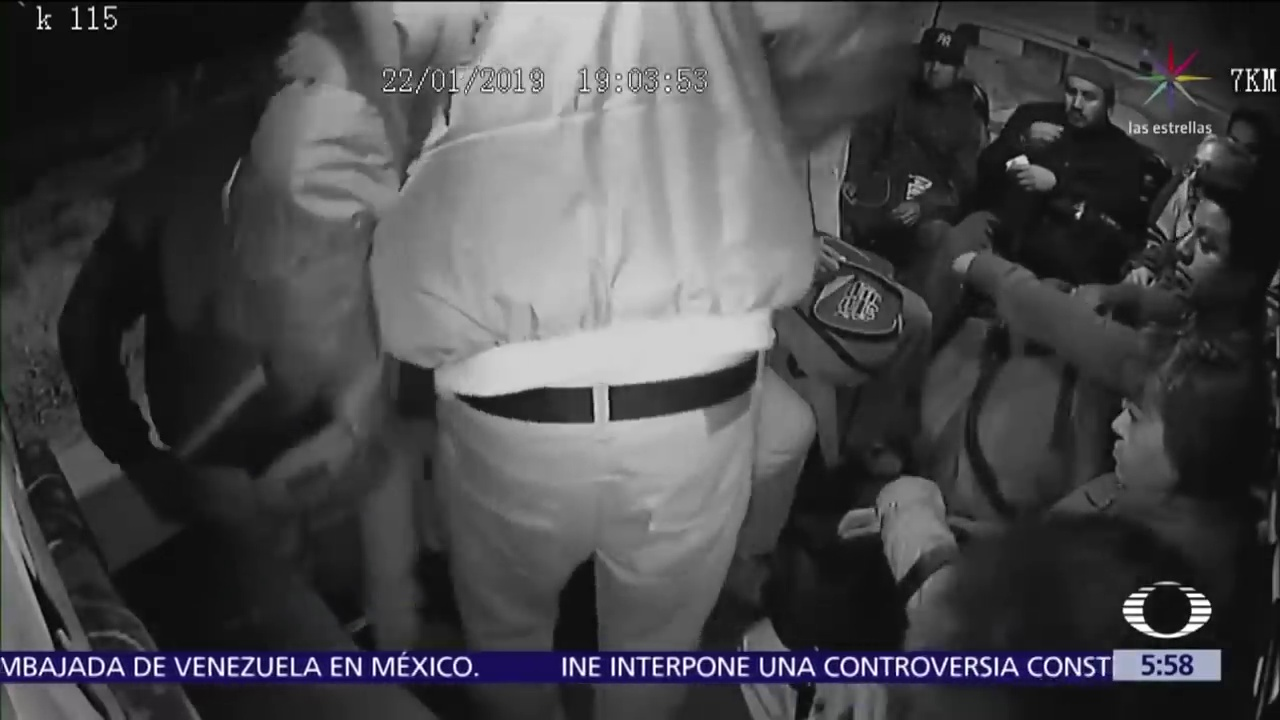pistol: (240, 380, 337, 481)
